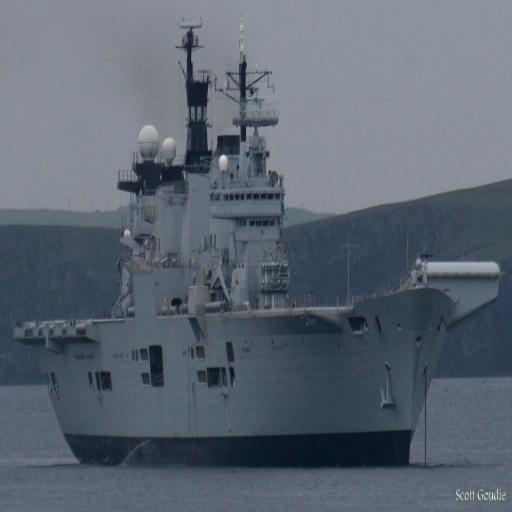Portanaves: (13, 9, 509, 483)
